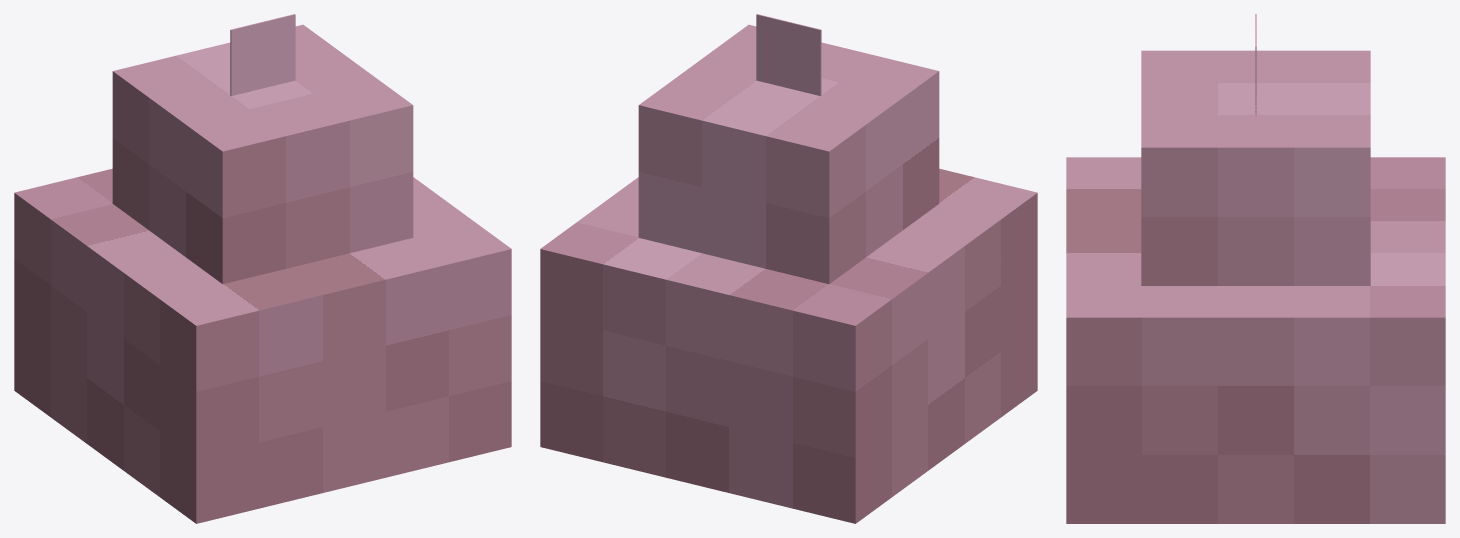
Rendered from Goop.fbx.
The picture shows the model from 3 angles, left to right: view 1: azimuth 30°, elevation 25°; view 2: azimuth 150°, elevation 25°; view 3: azimuth 270°, elevation 25°; orthographic projection. The views are drawn at different scales.
Parts seen in each view (by area): view 1: goop; view 2: goop; view 3: goop.
Boxes of the visible parts, bbox=[...] form: goop: bbox=[14, 14, 511, 523]; goop: bbox=[540, 14, 1037, 523]; goop: bbox=[1066, 14, 1445, 523].
Bounding box in the file's own units: 15.62 × 18.78 × 15.62.
1 material, 1 textured.
